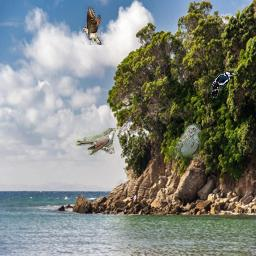Crow: (126, 172, 136, 199)
Cuckoo: (81, 5, 114, 45), (76, 128, 116, 155)
Sparrow: (171, 123, 201, 162)
Woodpecker: (210, 71, 238, 98)
